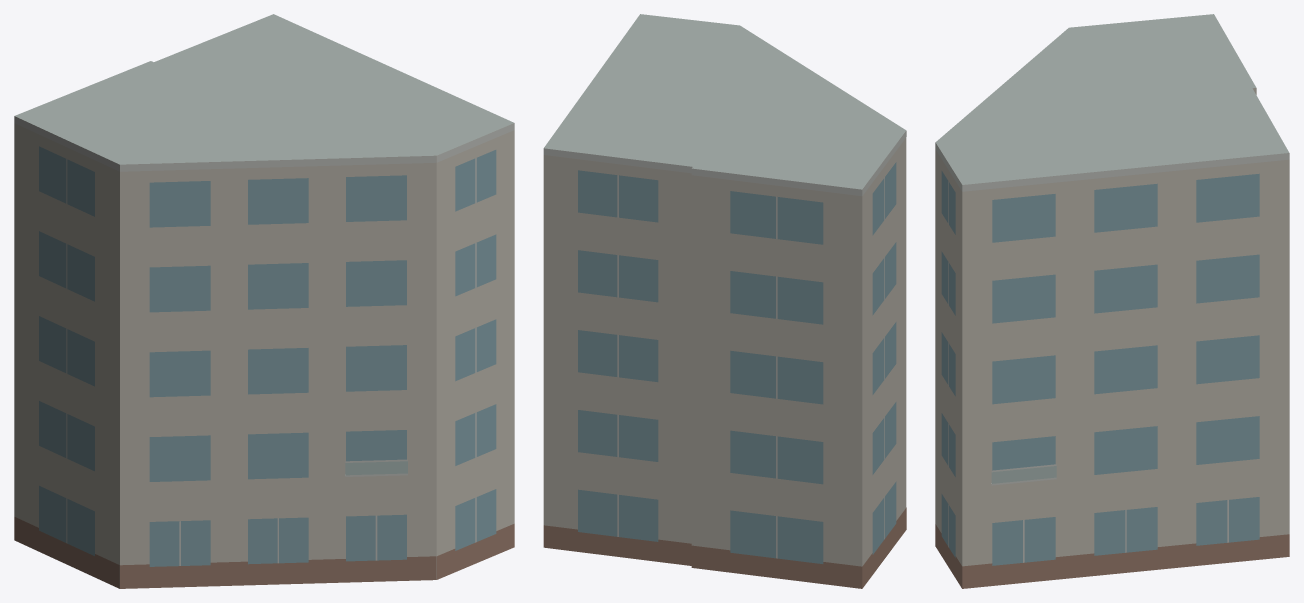
File: survey-upis-32664815.glb
3 views of the same model, side by side, from view 1: azimuth 30°, elevation 25°; view 2: azimuth 150°, elevation 25°; view 3: azimuth 270°, elevation 25° (orthographic). The views are drawn at different scales.
Visible parts, largest first — view 1: survey-upis-32664815.tmp; view 2: survey-upis-32664815.tmp; view 3: survey-upis-32664815.tmp.
Boxes of the visible parts, x1,y1,x2,y2 form: survey-upis-32664815.tmp: (14, 14, 514, 588); survey-upis-32664815.tmp: (543, 14, 906, 588); survey-upis-32664815.tmp: (935, 14, 1289, 588).
Size of the model in its own units: 13.27 by 14.6 by 11.61.
